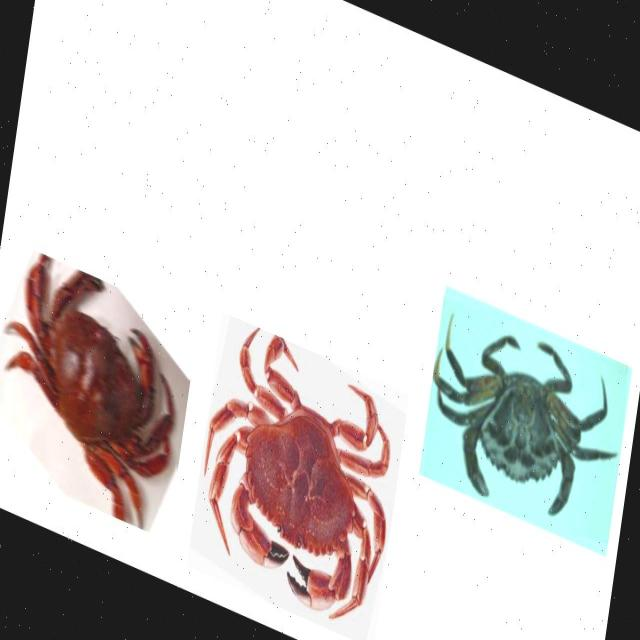egc: (431, 311, 619, 516)
